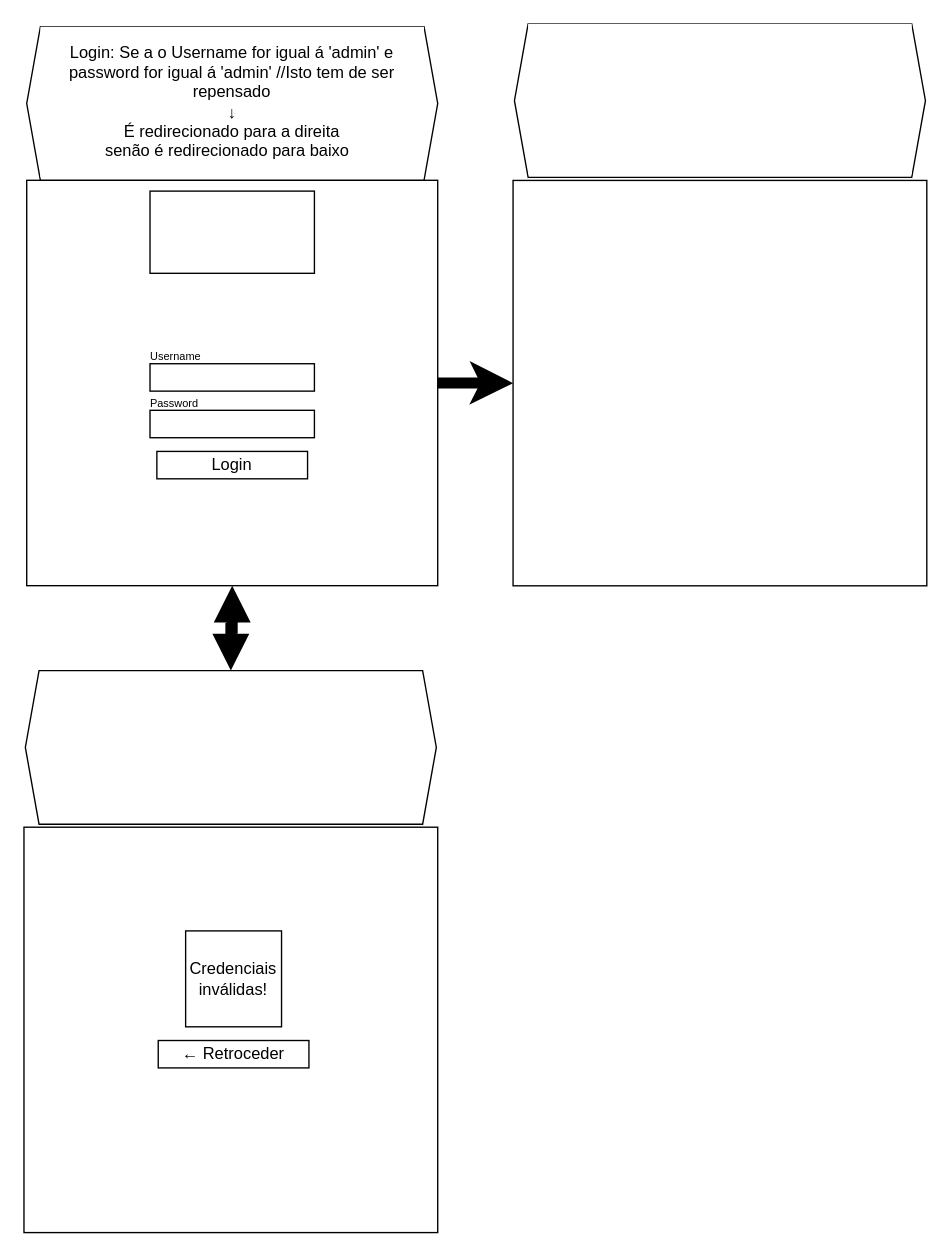
This 951x1258 diagram has some shape labels left out. Here are the shapes that lost their labels. From the top down, the centre of each, then its label:
At [231,231]: "Logo.png".
At [230,746]: "Retroceder: É redirecionado para cima.".
